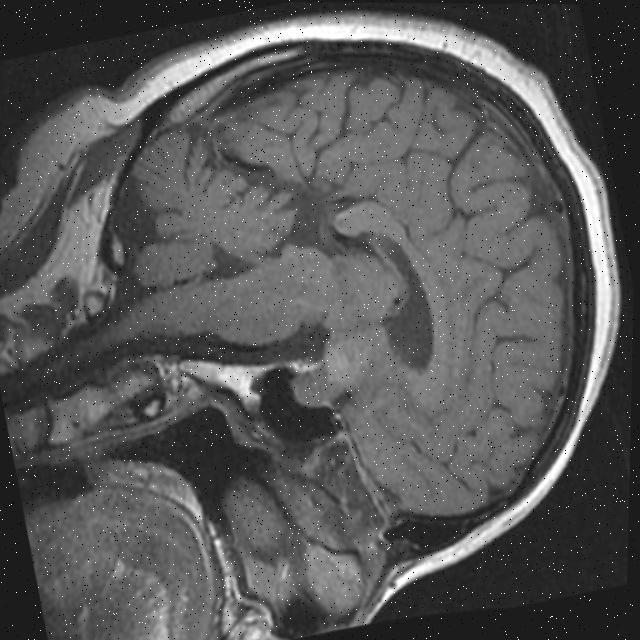Pituitary: (285, 359, 345, 415)
